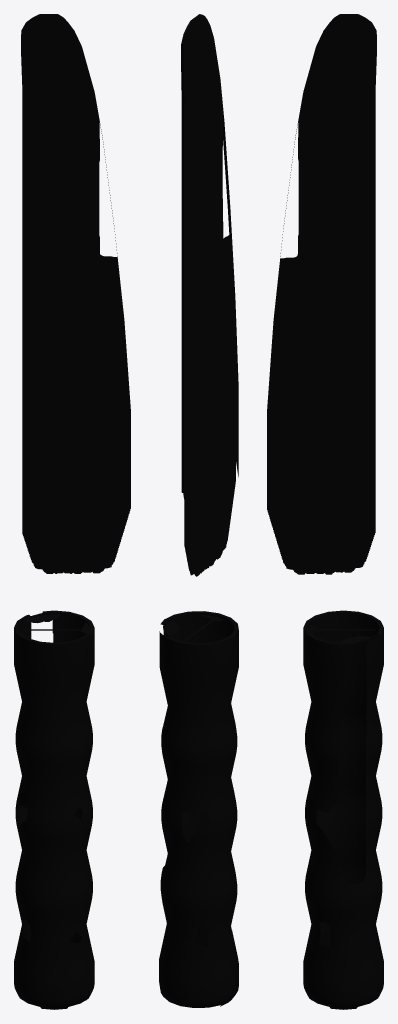
The model's file is knife.obj.
The picture shows the model from 3 angles, left to right: view 1: azimuth 90°, elevation 25°; view 2: azimuth 150°, elevation 25°; view 3: azimuth 270°, elevation 25°; orthographic projection.
Parts seen in each view (by area): view 1: knife; view 2: knife; view 3: knife.
Part boxes in pixels (bbox=[...]): knife: bbox=[14, 14, 130, 1009]; knife: bbox=[159, 14, 238, 1007]; knife: bbox=[267, 14, 383, 1009].
Bounding box in the file's own units: 0.0112 × 0.1503 × 0.0162.
